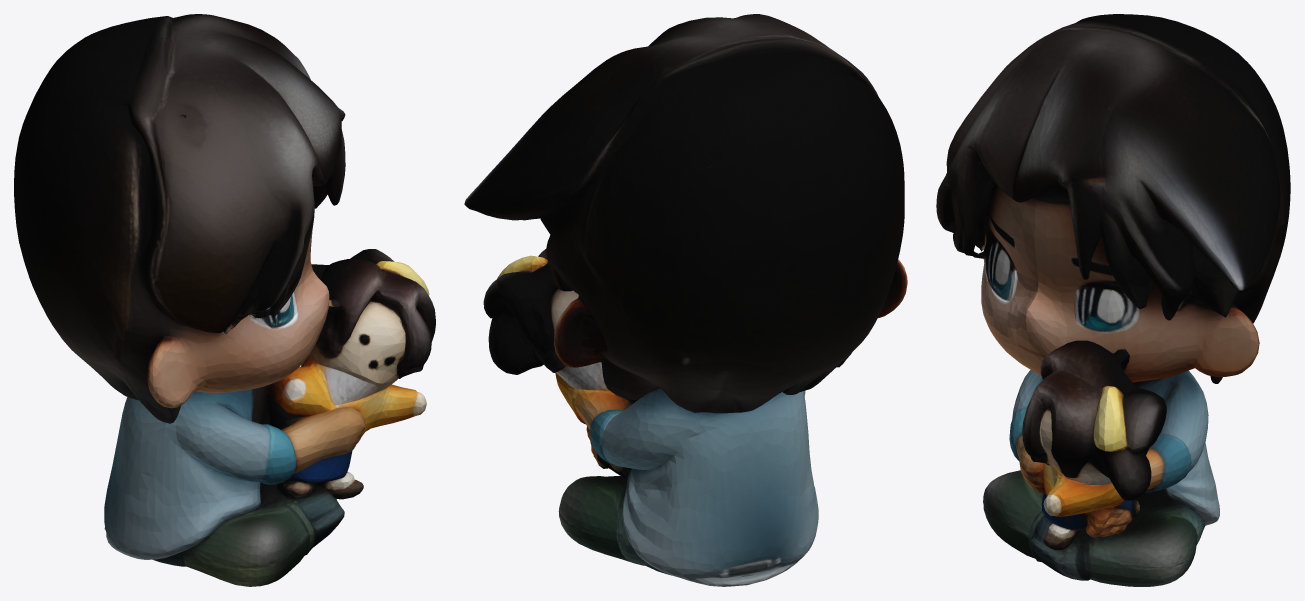
File: heiji-v1.glb
3 views of the same model, side by side, from view 1: azimuth 30°, elevation 25°; view 2: azimuth 150°, elevation 25°; view 3: azimuth 270°, elevation 25° (orthographic). The views are drawn at different scales.
Visible parts, largest first — view 1: world; view 2: world; view 3: world.
Part boxes in pixels (bbox=[...]): world: bbox=[14, 14, 435, 586]; world: bbox=[464, 14, 907, 586]; world: bbox=[936, 14, 1290, 586].
Bounding box in the file's own units: 0.7907 × 0.9994 × 0.6568.
Materials: 1 (1 with a texture image).
